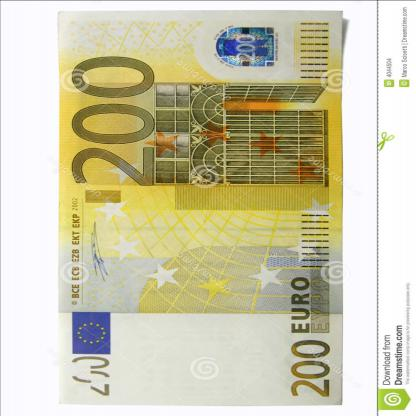euro_banknote: (4, 68, 398, 350)
